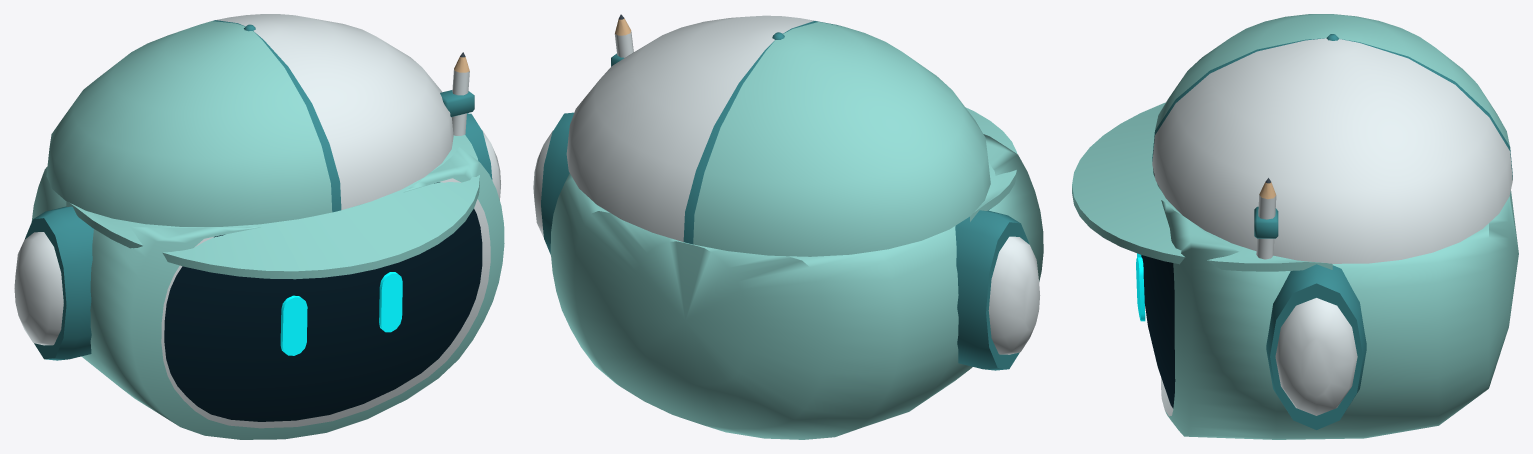
The model's file is copilot_analyst_v01.glb.
3 views of the same model, side by side, from view 1: azimuth 30°, elevation 25°; view 2: azimuth 150°, elevation 25°; view 3: azimuth 270°, elevation 25° (orthographic). The views are drawn at different scales.
Parts seen in each view (by area): view 1: analyst_model; view 2: analyst_model; view 3: analyst_model.
Part boxes in pixels (left/top/right/bottom): analyst_model: left=14, top=14, right=504, bottom=439; analyst_model: left=533, top=14, right=1043, bottom=439; analyst_model: left=1072, top=14, right=1518, bottom=439.
Bounding box in the file's own units: 2.82 × 2.02 × 2.23.
Materials: 2 (2 with a texture image).
